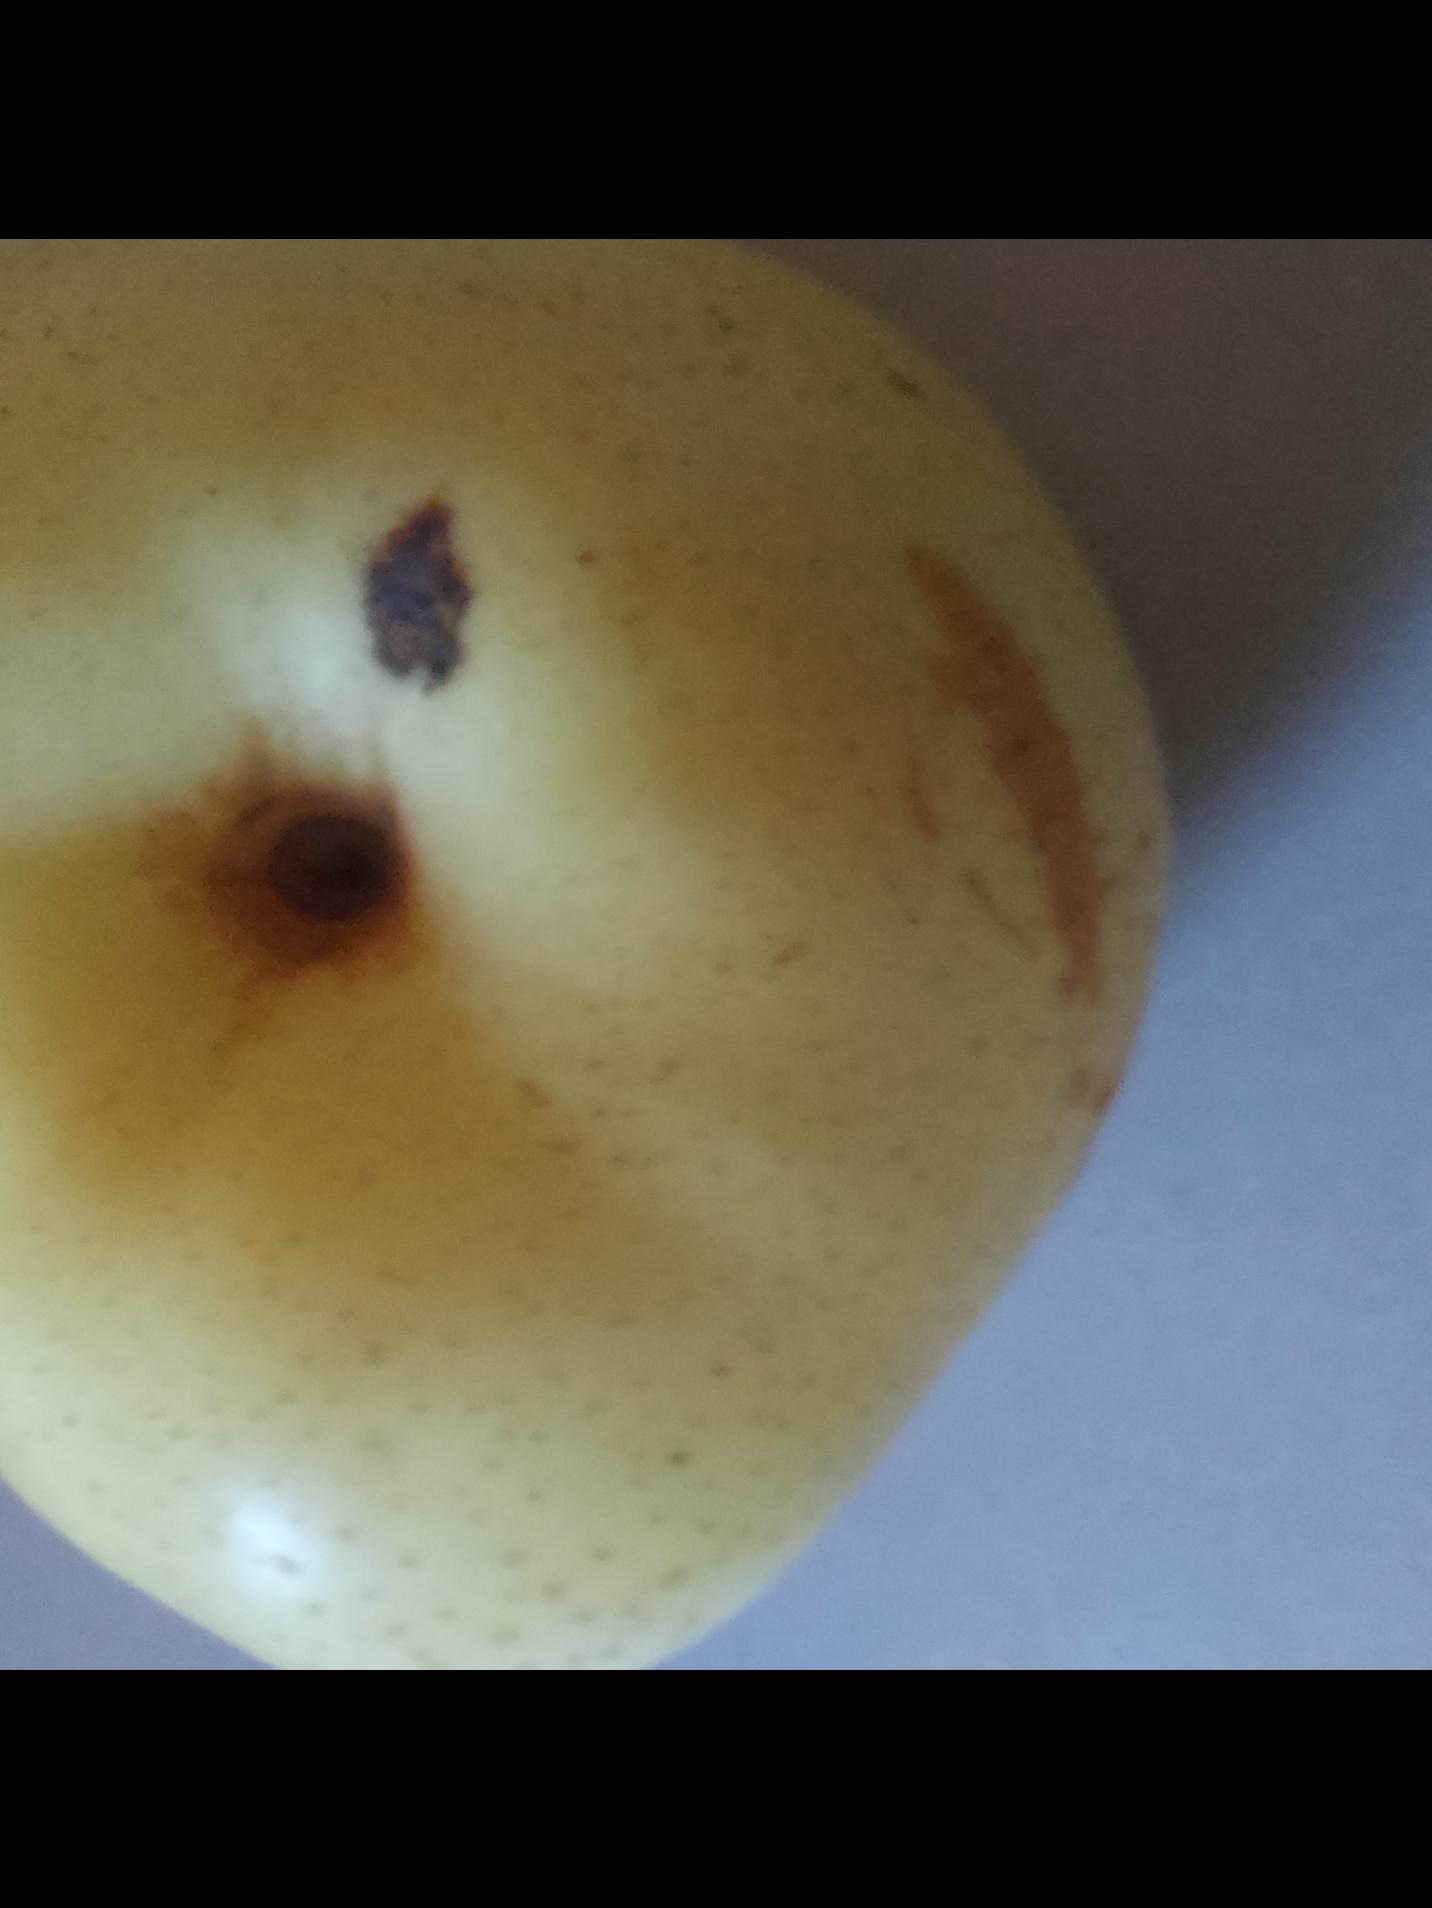Good Pear: (0, 238, 1256, 1670)
